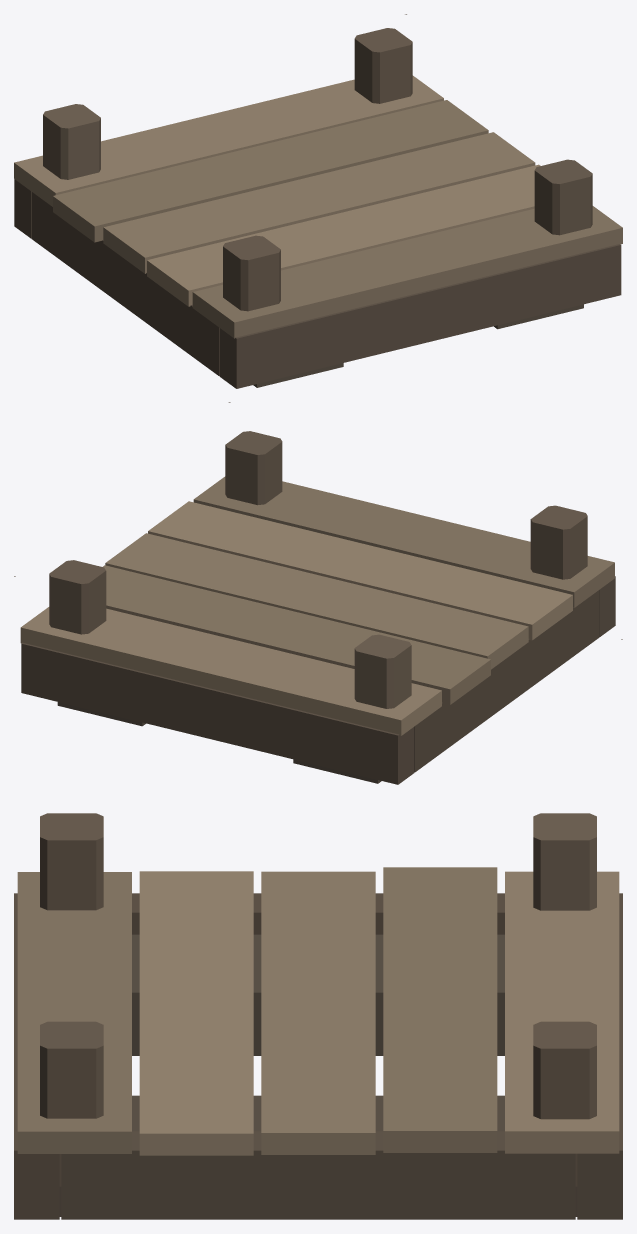
File: MooringFloat_wood.glb
3 views of the same model, one above another, from view 1: azimuth 30°, elevation 25°; view 2: azimuth 150°, elevation 25°; view 3: azimuth 270°, elevation 25° (orthographic). The views are drawn at different scales.
Visible parts, largest first — view 1: MooringFloat_wood; view 2: MooringFloat_wood; view 3: MooringFloat_wood.
Part boxes in pixels (x1,y1,x2,y2): MooringFloat_wood: (14,14,622,402); MooringFloat_wood: (14,431,622,784); MooringFloat_wood: (14,813,622,1219).
Size of the model in its own units: 4.15 by 1.28 by 4.
